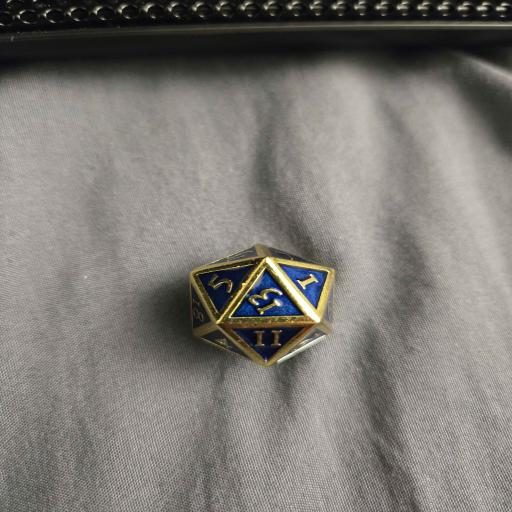twenty sided dice: (189, 243, 335, 367)
